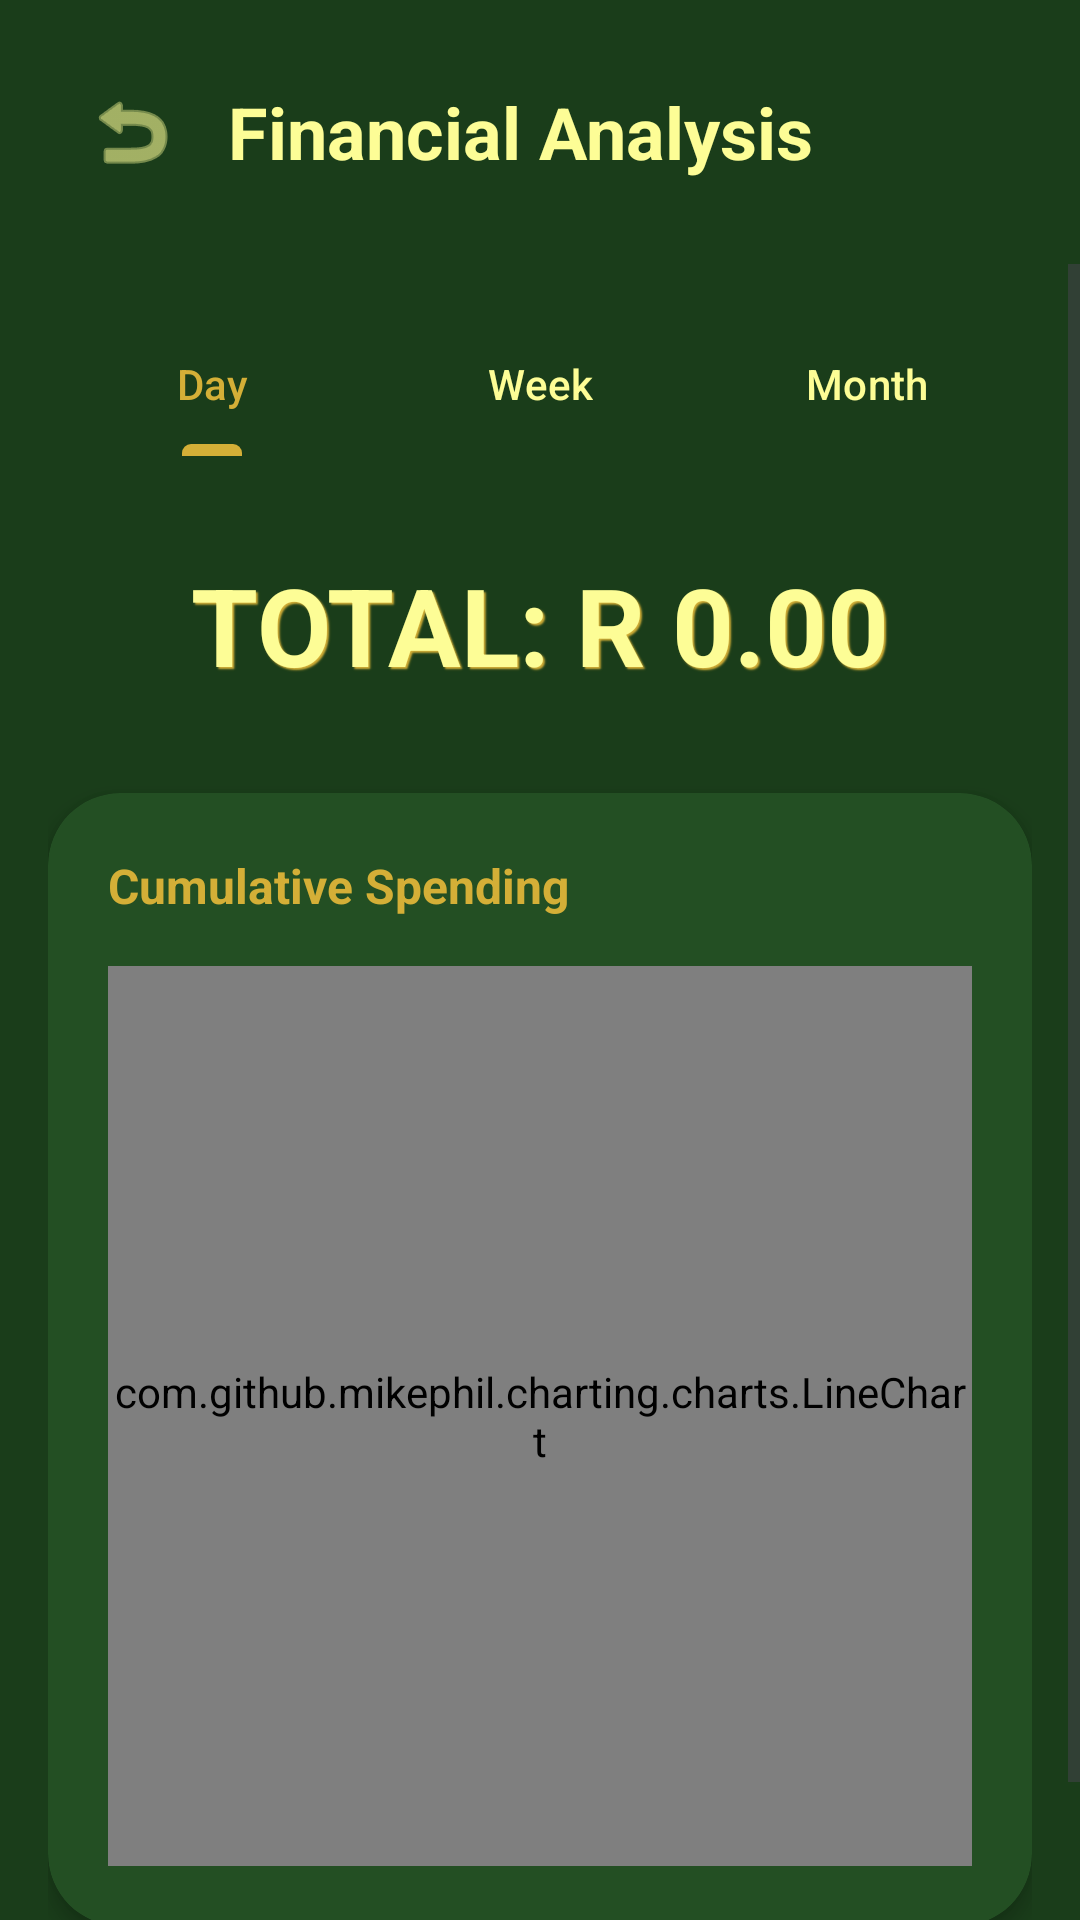

Screen size 1080x1920. Icon name, then its center in pixels as (x=x, y=y):
revert: (x=133, y=132)
